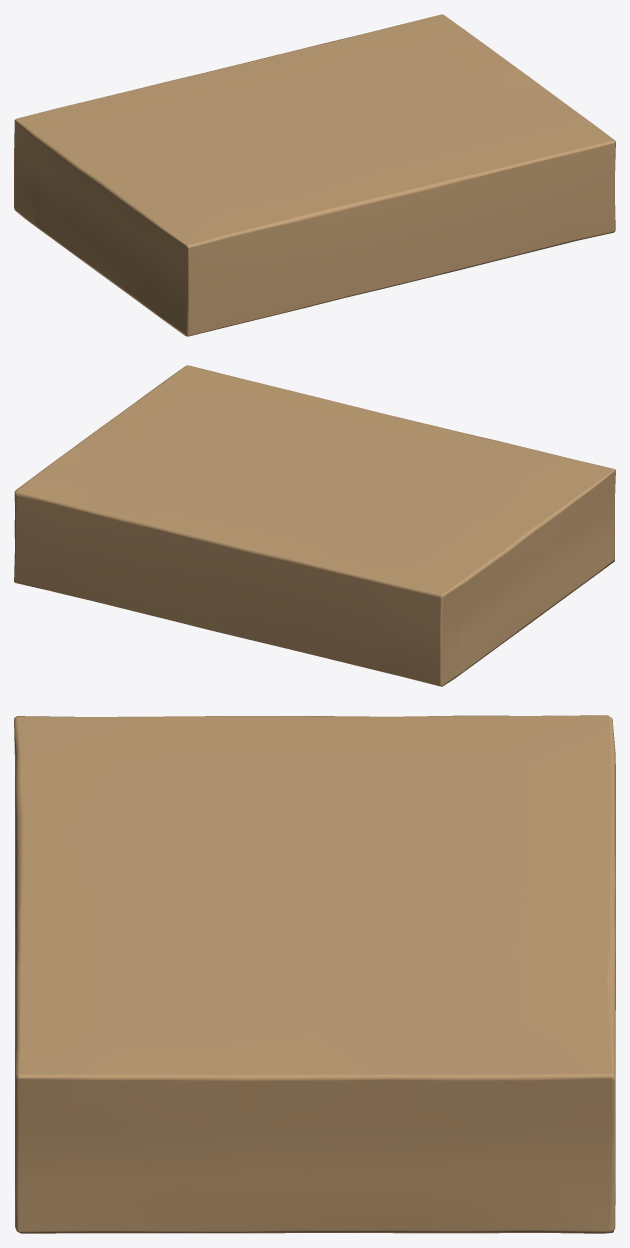
File: misc_printerPaper_a02.glb
The picture shows the model from 3 angles, top to bottom: view 1: azimuth 30°, elevation 25°; view 2: azimuth 150°, elevation 25°; view 3: azimuth 270°, elevation 25°; orthographic projection. The views are drawn at different scales.
Bounding box in the file's own units: 0.303 × 0.0621 × 0.2122.
